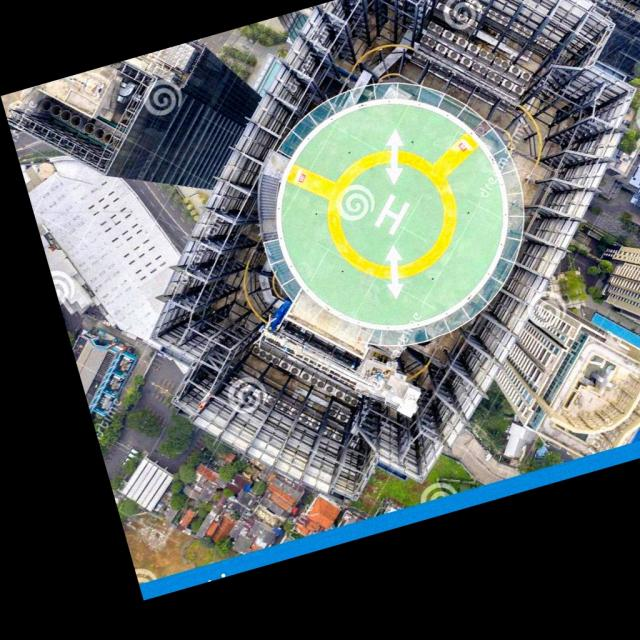helipad: (322, 144, 456, 284)
